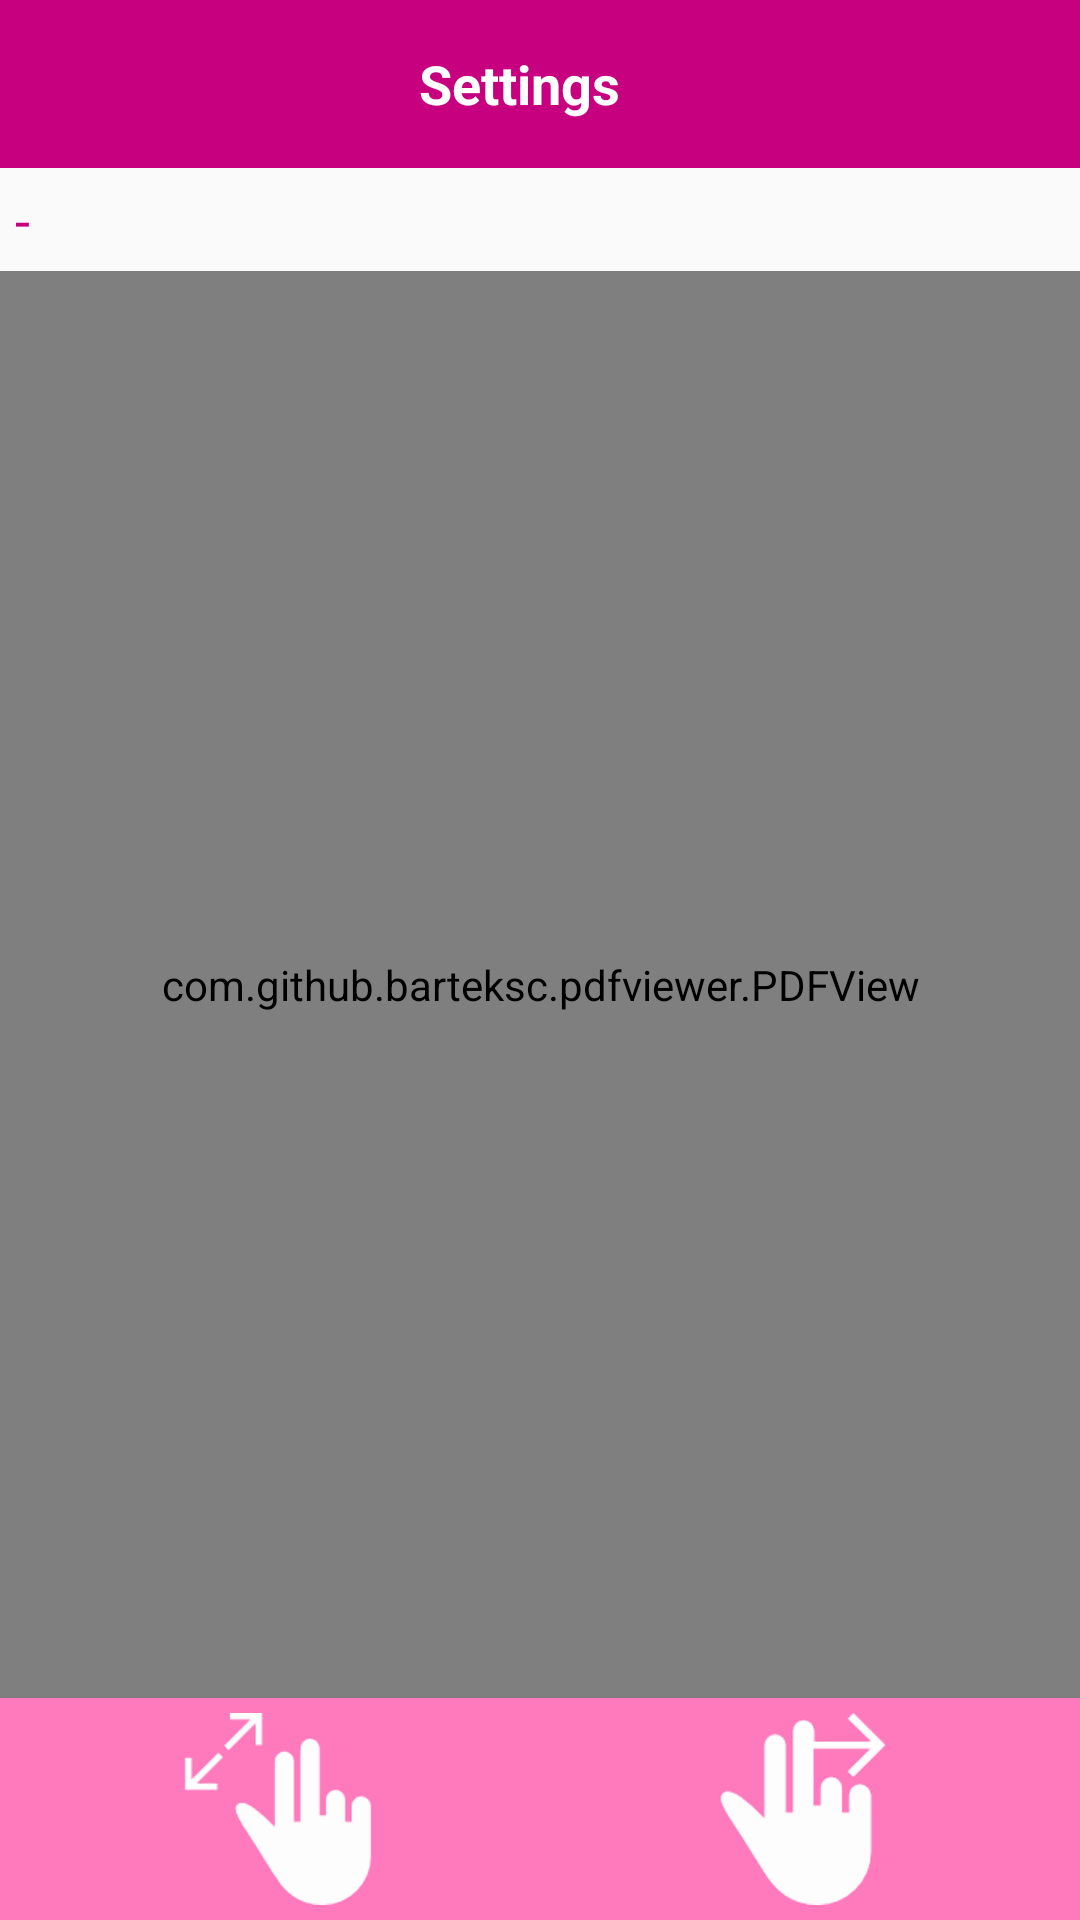

Screen size 1080 × 1920. Icon name, then its center in pixels as (x=x, y=y):
zoom in: (x=278, y=1809)
